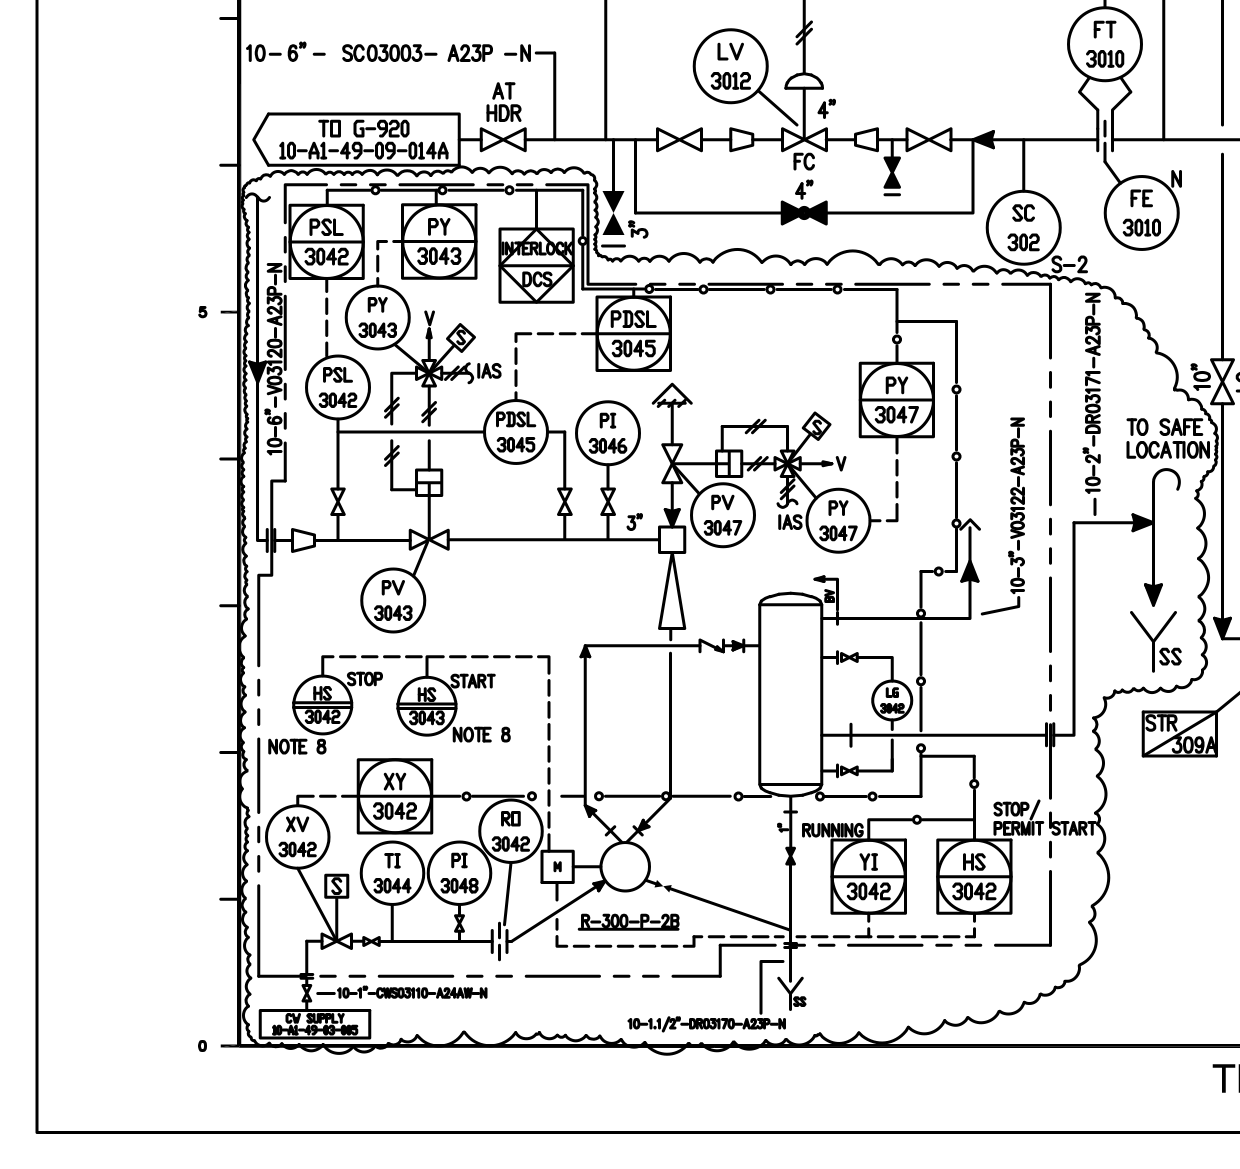Check Valve: (693, 636, 734, 657)
Instrument Tag: (688, 23, 777, 110), (396, 198, 485, 285), (286, 197, 375, 283), (591, 290, 679, 377), (854, 357, 942, 444), (1097, 170, 1185, 257), (982, 182, 1070, 269), (1060, 3, 1148, 90), (355, 835, 431, 912), (801, 483, 876, 560), (357, 563, 432, 641), (300, 349, 375, 426), (423, 834, 498, 911), (261, 798, 336, 875), (684, 476, 759, 553), (571, 394, 646, 471), (479, 394, 554, 471), (476, 799, 547, 867), (343, 281, 410, 352)
Line Number: (244, 38, 533, 67), (262, 260, 284, 457), (1007, 400, 1029, 597), (1084, 290, 1105, 496)
Page Out: (247, 105, 474, 172)
Reducer: (725, 123, 759, 155), (852, 124, 886, 156)
Valve: (1205, 352, 1240, 410), (476, 124, 536, 157), (400, 522, 460, 555), (777, 124, 837, 157), (900, 124, 959, 157), (651, 123, 711, 156), (655, 438, 689, 491), (314, 928, 360, 954), (552, 485, 579, 521), (597, 482, 624, 519), (327, 482, 349, 522)
